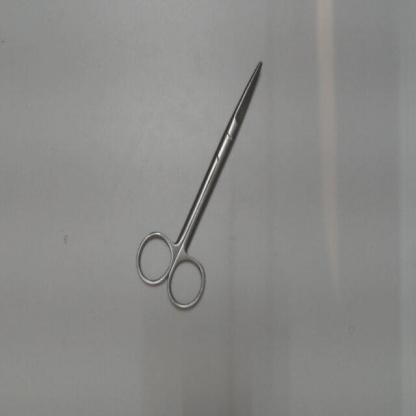Curved Mayo Scissors: (127, 52, 268, 322)
